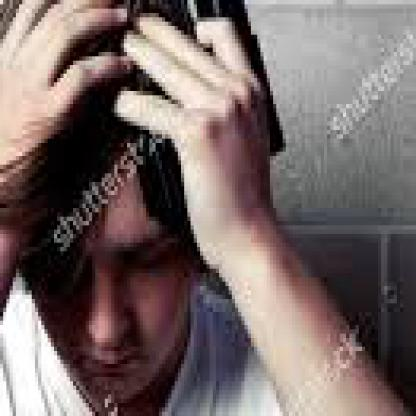gun: (133, 0, 299, 291)
